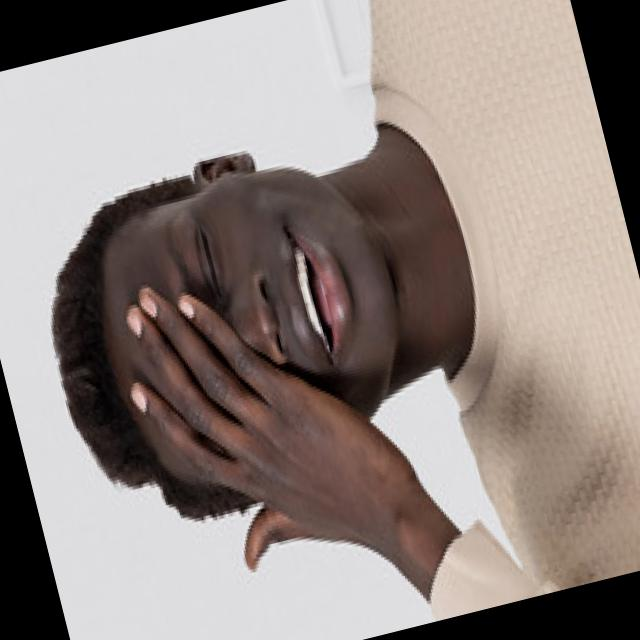Hand: (97, 230, 431, 606)
